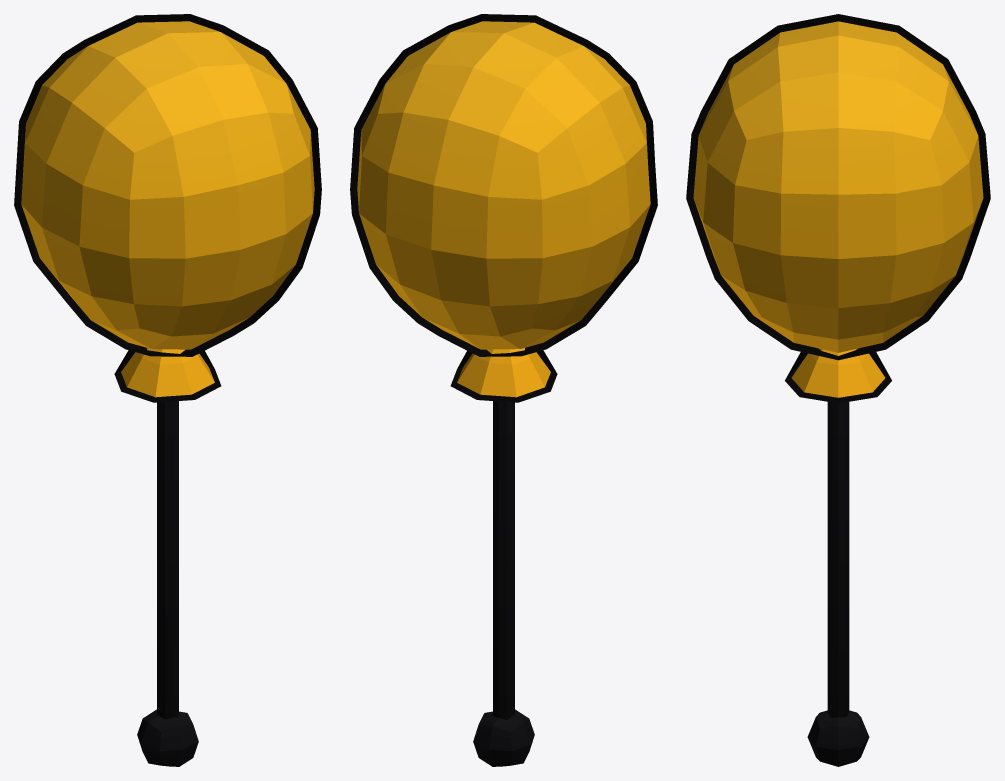
The model's file is item_balloon_orange.fbx.
3 views of the same model, side by side, from view 1: azimuth 30°, elevation 25°; view 2: azimuth 150°, elevation 25°; view 3: azimuth 270°, elevation 25° (orthographic).
Visible parts, largest first — view 1: Balloon, BalloonThread; view 2: Balloon, BalloonThread; view 3: Balloon, BalloonThread.
Boxes of the visible parts, box(x1,y1,x2,y2) form: Balloon: box(14, 14, 321, 402); BalloonThread: box(137, 401, 198, 766); Balloon: box(350, 14, 657, 402); BalloonThread: box(473, 401, 534, 766); Balloon: box(686, 14, 990, 403); BalloonThread: box(807, 402, 869, 766).
Bounding box in the file's own units: 82.56 × 220 × 82.56.
